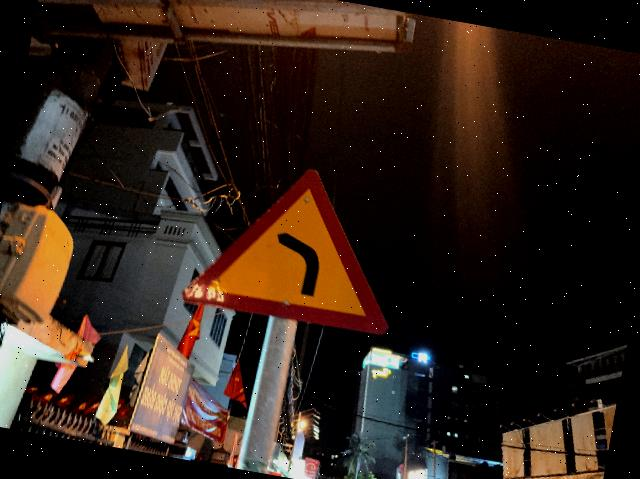cho-ngoat-nguy-hiem-ben-phai: (179, 147, 412, 338)
